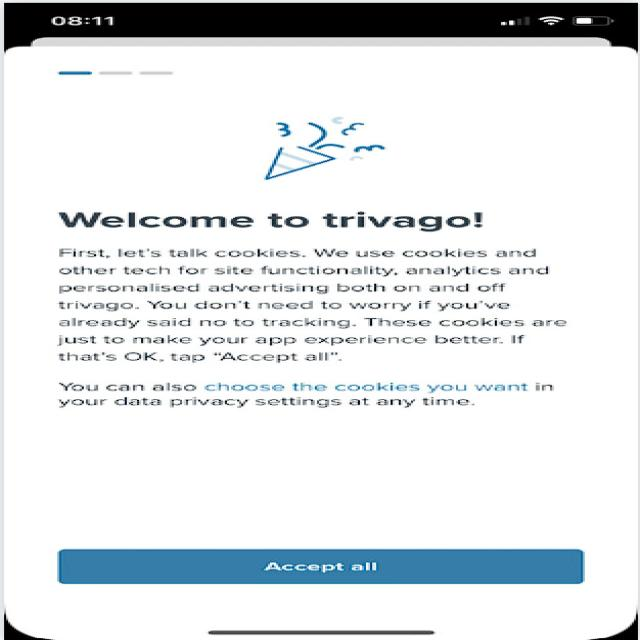button: (38, 536, 601, 596)
spacer: (33, 420, 603, 526)
text: (30, 202, 605, 416)
view: (234, 97, 407, 188)
